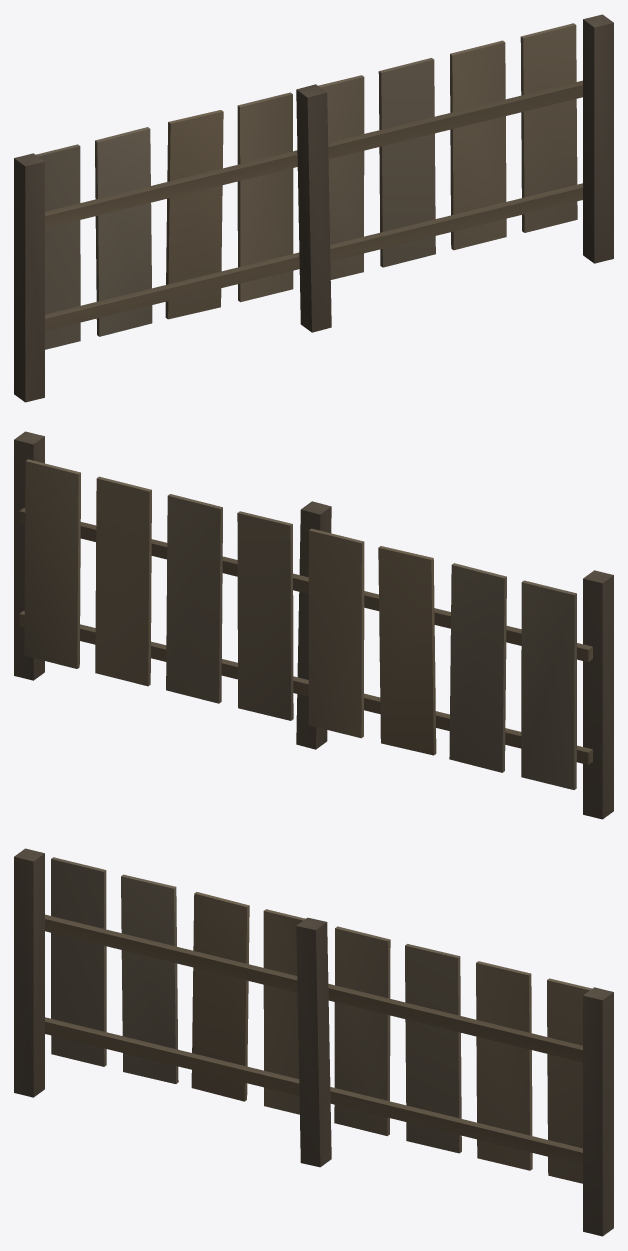
The model's file is m01_prop_fence_wood_lod1.glb.
The picture shows the model from 3 angles, top to bottom: view 1: azimuth 30°, elevation 25°; view 2: azimuth 150°, elevation 25°; view 3: azimuth 330°, elevation 25°; orthographic projection.
Parts seen in each view (by area): view 1: fence_wood; view 2: fence_wood; view 3: fence_wood.
Boxes of the visible parts, bbox=[...] form: fence_wood: bbox=[14, 14, 613, 402]; fence_wood: bbox=[14, 431, 613, 819]; fence_wood: bbox=[14, 848, 613, 1236].
Size of the model in its own units: 3 by 1.15 by 0.176.
